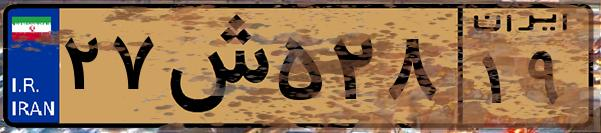1: (475, 38, 525, 113)
2: (330, 28, 385, 110), (57, 26, 110, 100)
5: (270, 28, 330, 110)
7: (110, 28, 158, 98)
8: (385, 28, 445, 110)
9: (525, 38, 570, 115)
ش: (158, 12, 270, 120)
